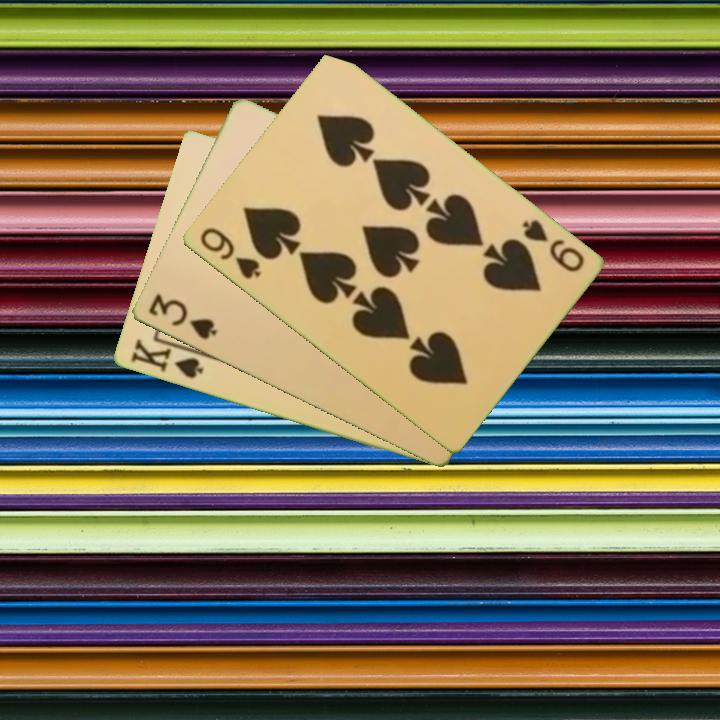3s: (144, 290, 220, 343)
9s: (518, 216, 587, 275), (195, 224, 264, 282)
Ks: (127, 335, 210, 382)
